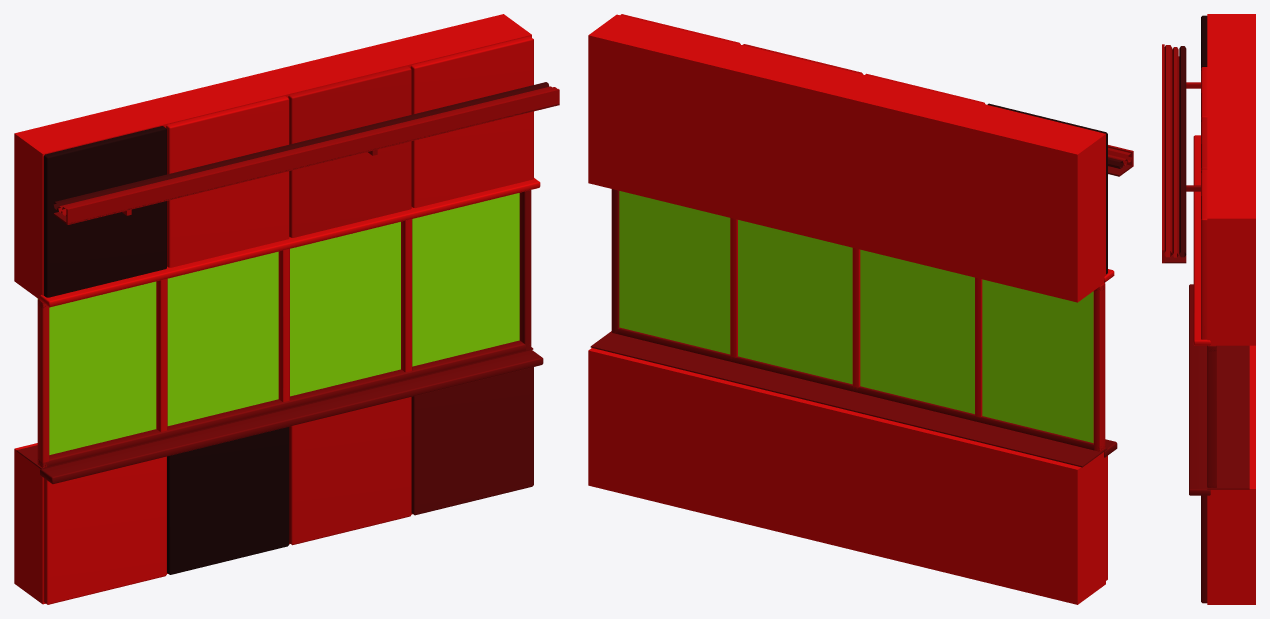
Rendered from fac_panel_a.glb.
3 views of the same model, side by side, from view 1: azimuth 30°, elevation 25°; view 2: azimuth 150°, elevation 25°; view 3: azimuth 270°, elevation 25° (orthographic). The views are drawn at different scales.
Visible parts, largest first — view 1: fac_panel_a; view 2: fac_panel_a; view 3: fac_panel_a.
Part boxes in pixels (<box>): fac_panel_a: <box>14,14,559,604</box>; fac_panel_a: <box>588,14,1133,604</box>; fac_panel_a: <box>1162,14,1255,604</box>.
Bounding box in the file's own units: 4 × 3.5 × 0.77.
